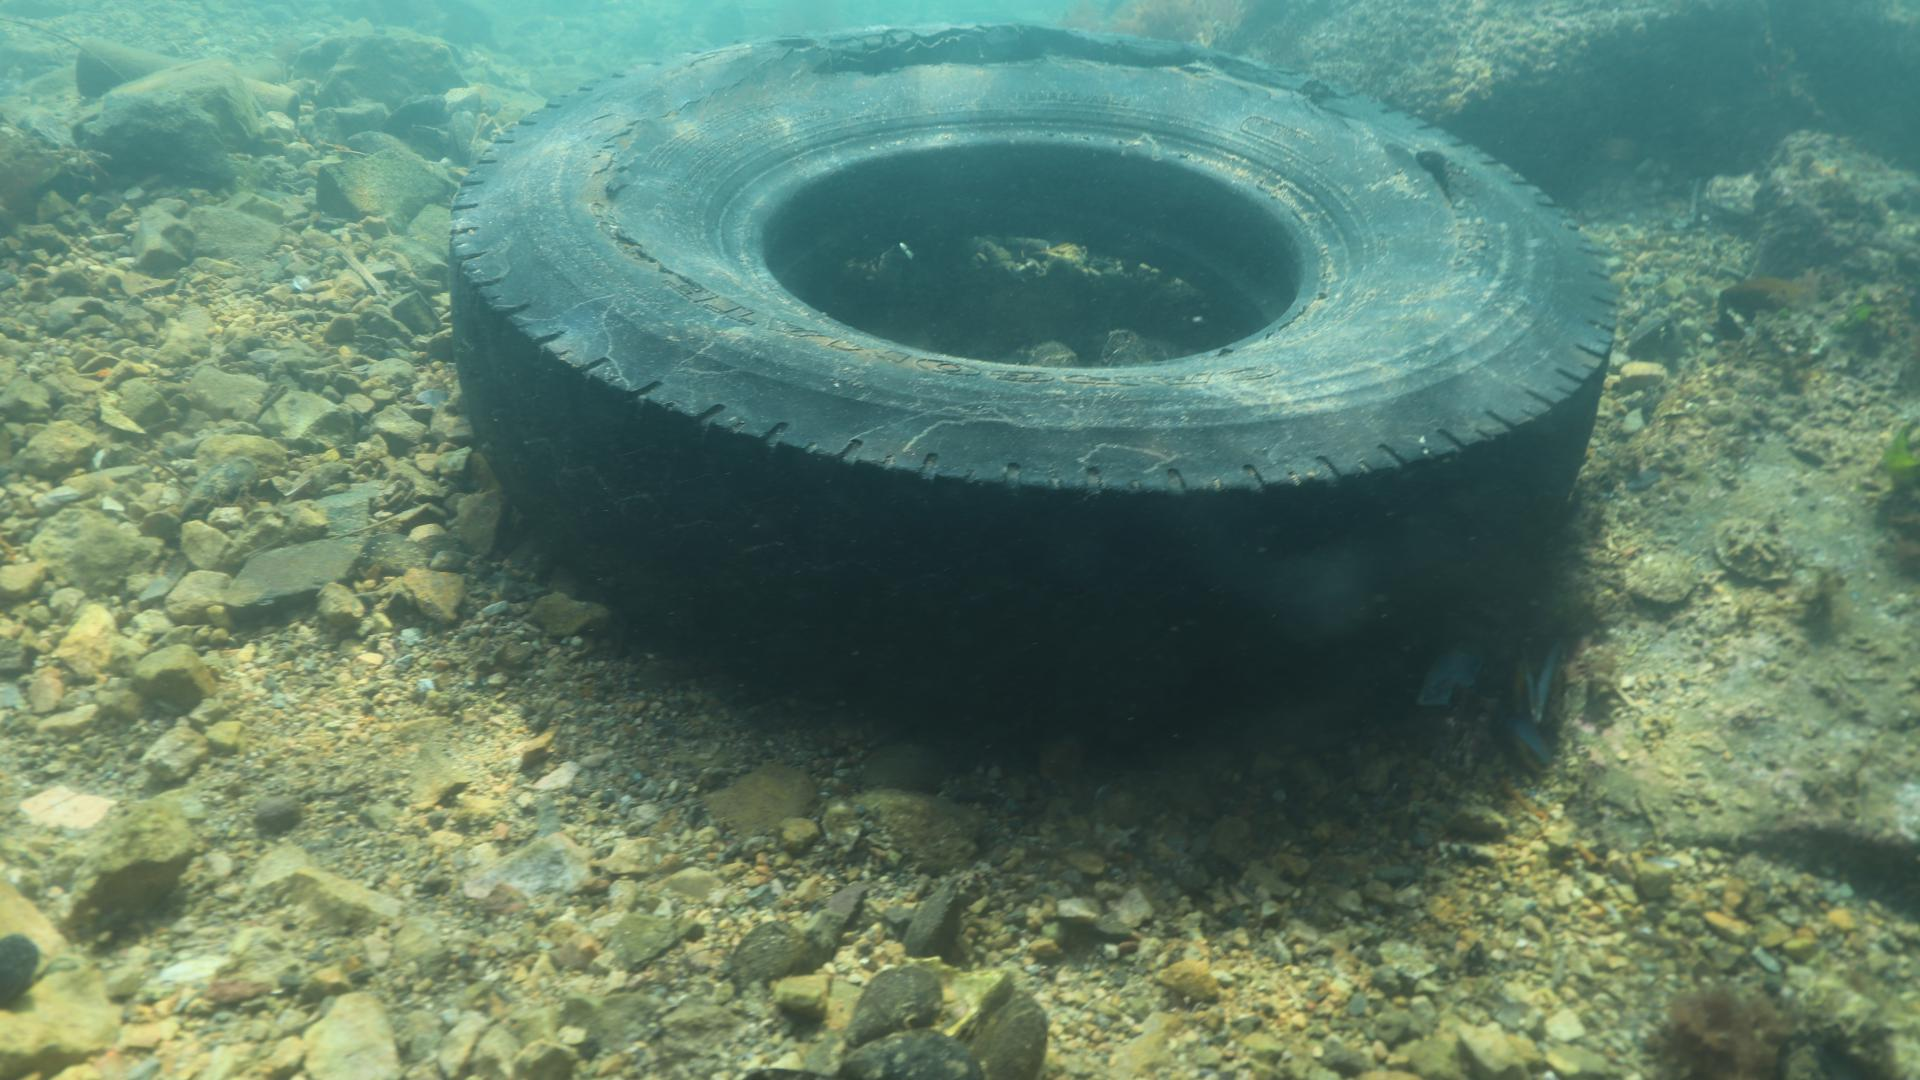tire: (443, 22, 1619, 695)
